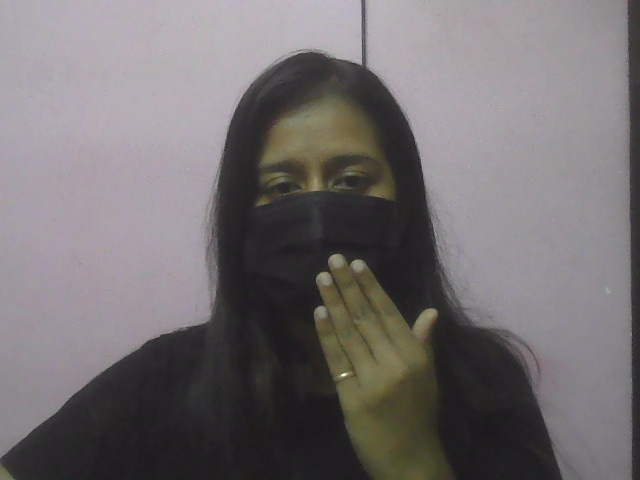Thank you: (289, 243, 456, 476)
